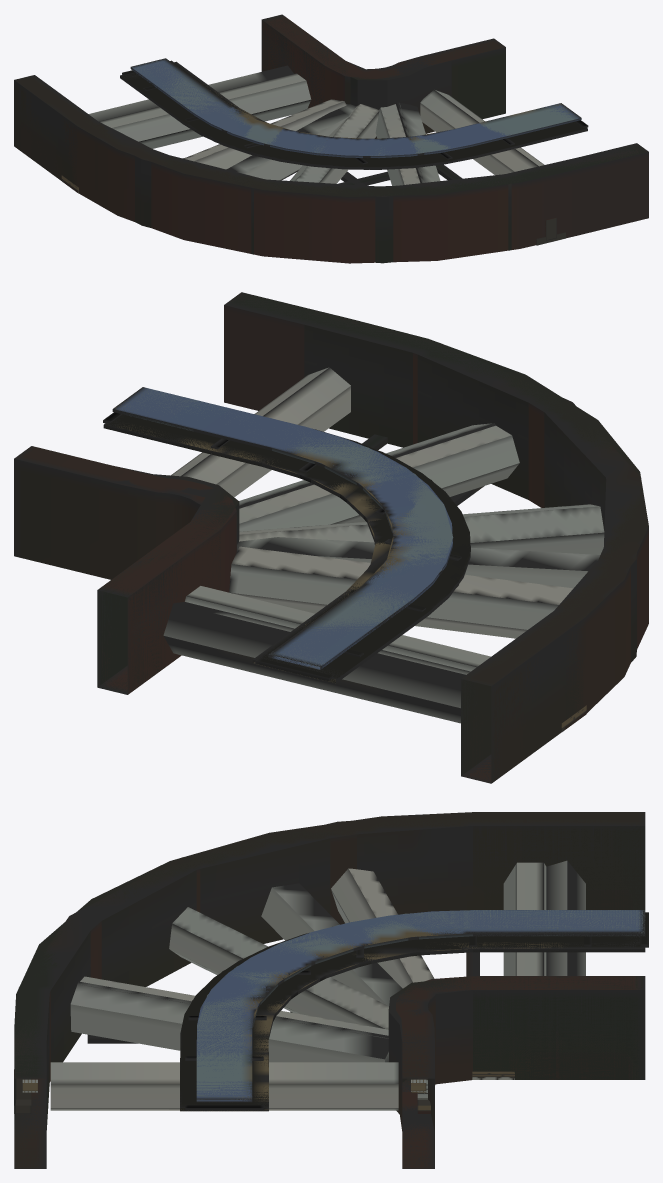
The model's file is place_works_conduit_lane_corner.glb.
3 renders of one model, top to bottom at view 1: azimuth 30°, elevation 25°; view 2: azimuth 150°, elevation 25°; view 3: azimuth 270°, elevation 25°, orthographic. The views are drawn at different scales.
Parts seen in each view (by area): view 1: LOD0_Merged_Material_Atlas, LOD1_Merged_Material_Atlas, LOD0_flow_mesh, LOD1_flow_mesh; view 2: LOD0_Merged_Material_Atlas, LOD1_Merged_Material_Atlas, LOD0_flow_mesh, LOD1_flow_mesh; view 3: LOD0_Merged_Material_Atlas, LOD1_Merged_Material_Atlas, LOD0_flow_mesh, LOD1_flow_mesh.
Part boxes in pixels (x1,y1,x2,y2): LOD0_Merged_Material_Atlas: (14, 14, 648, 263); LOD1_Merged_Material_Atlas: (14, 15, 648, 263); LOD0_flow_mesh: (120, 60, 588, 169); LOD1_flow_mesh: (121, 63, 587, 169); LOD0_Merged_Material_Atlas: (14, 292, 648, 783); LOD1_Merged_Material_Atlas: (15, 292, 641, 782); LOD0_flow_mesh: (103, 412, 470, 683); LOD1_flow_mesh: (105, 415, 470, 683); LOD0_Merged_Material_Atlas: (14, 812, 645, 1168); LOD1_Merged_Material_Atlas: (14, 812, 645, 1168); LOD0_flow_mesh: (180, 912, 648, 1111); LOD1_flow_mesh: (180, 936, 644, 1111).
Bounding box in the file's own units: 1.66 × 0.26 × 1.66.
Materials: 1 (1 with a texture image).
